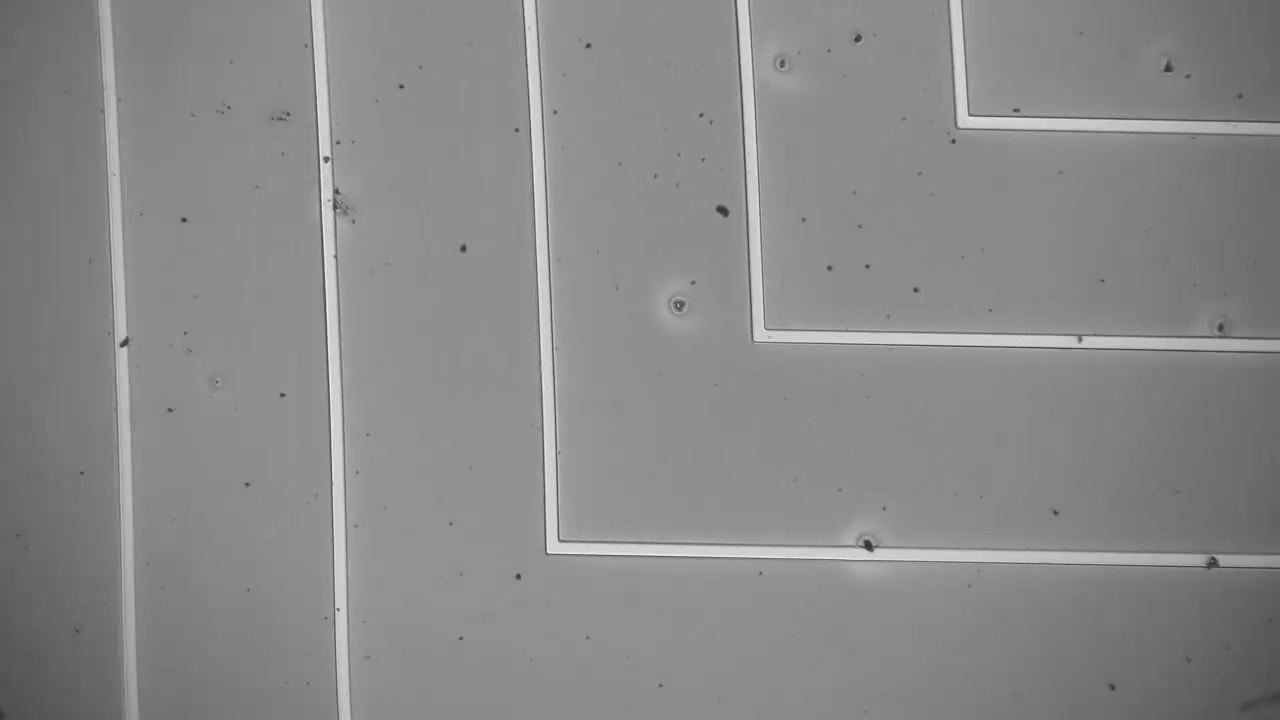stains_enbedded: (853, 529, 884, 570), (1198, 543, 1225, 581), (113, 334, 135, 360)
